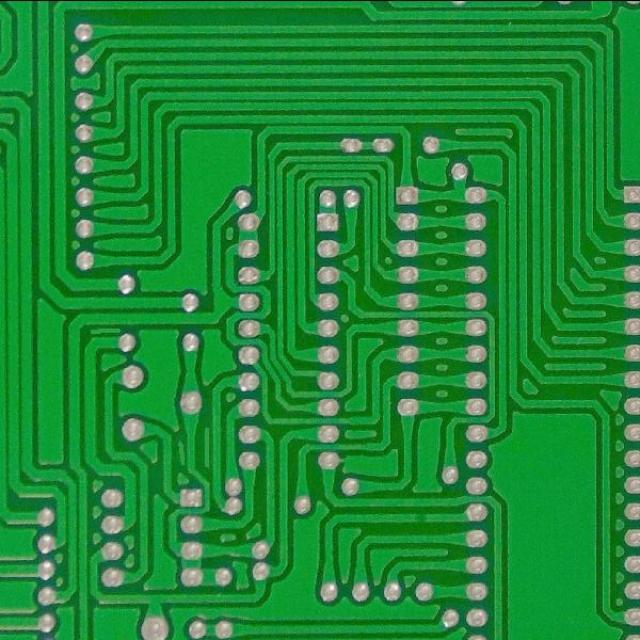Spur: (503, 18, 518, 35)
Spurious_Cooper: (202, 422, 213, 470), (86, 324, 124, 337), (175, 438, 187, 468)
